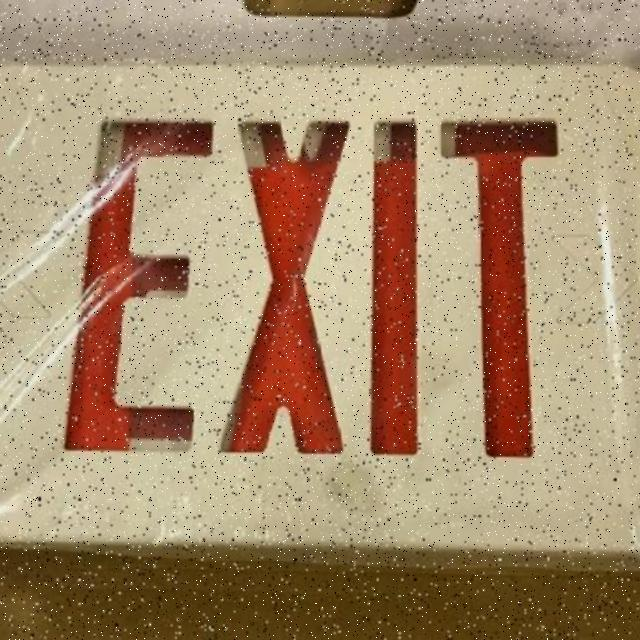emergency_exit: (1, 57, 639, 554), (62, 111, 561, 463), (440, 118, 558, 458)
